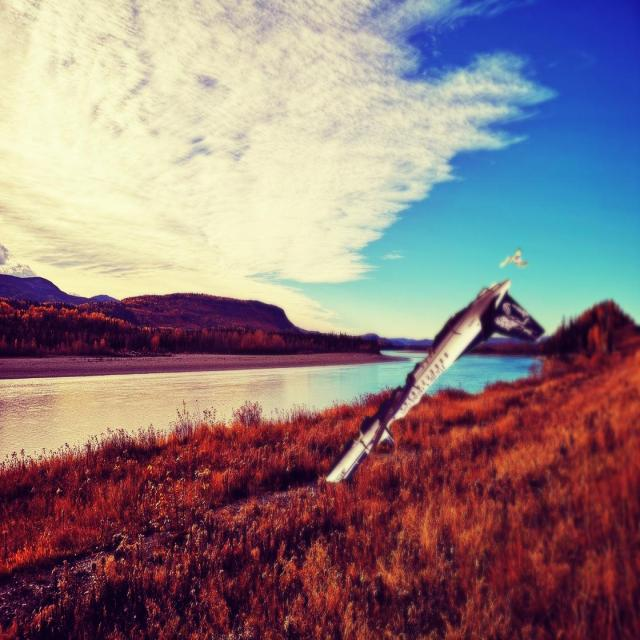airplane: (324, 277, 546, 483)
